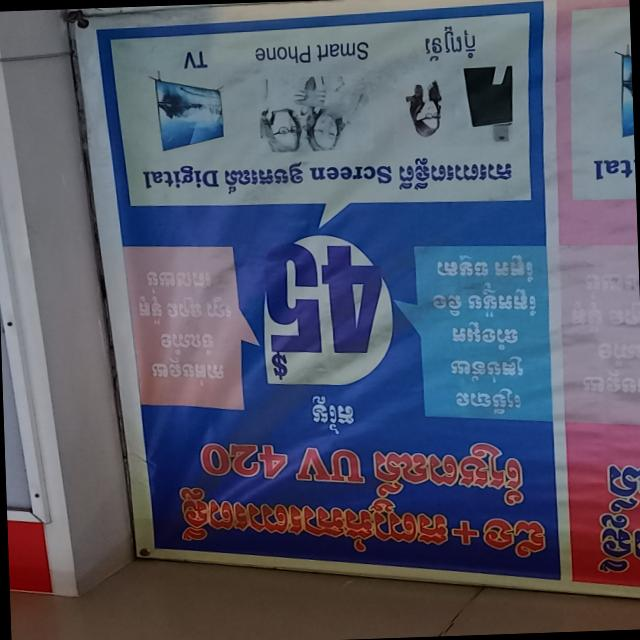1: (429, 281, 540, 320), (433, 250, 543, 283), (137, 296, 233, 325)
753: (198, 439, 290, 483)
754: (262, 240, 389, 356)
Yolov11_80vkh: (166, 487, 447, 556), (368, 439, 529, 511), (394, 151, 522, 193), (479, 515, 550, 565), (221, 157, 309, 196), (412, 20, 485, 65), (302, 396, 359, 439), (147, 355, 226, 386), (445, 388, 527, 417), (448, 320, 521, 352), (446, 356, 526, 384), (139, 266, 213, 295), (154, 333, 222, 360)
